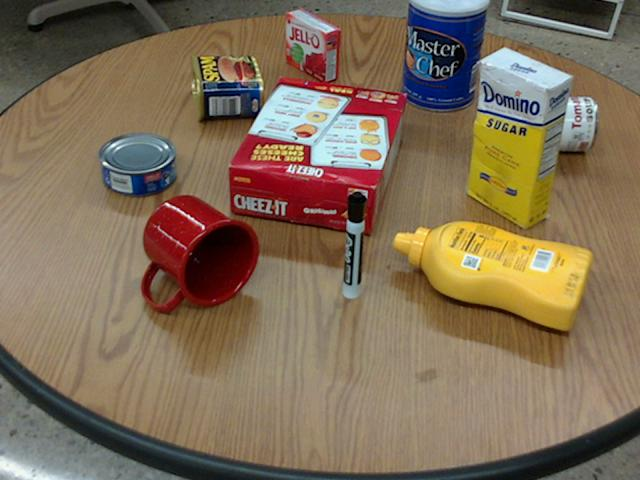cracker_box: (227, 78, 405, 233)
gelatin_box: (286, 8, 339, 81)
large_marker: (342, 191, 365, 298)
master_chef_can: (401, 0, 489, 110)
mug: (140, 195, 257, 308)
mustard_bottle: (393, 220, 590, 329)
potted_meat_can: (191, 54, 262, 119)
sugar_box: (468, 47, 570, 228)
tomato_soup_can: (501, 94, 596, 149)
tuna_fish_can: (98, 132, 175, 195)
